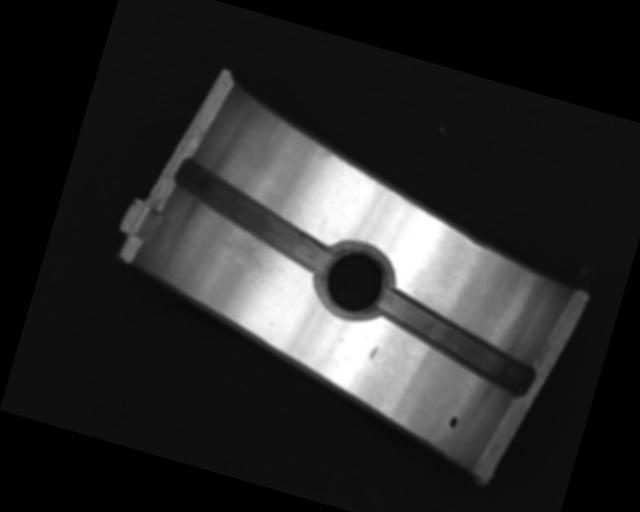blot: (447, 413, 460, 430)
bruise: (369, 344, 380, 362)
gap: (159, 158, 347, 276), (366, 287, 546, 399)
hole: (306, 236, 401, 330)
scratch: (199, 230, 287, 288)
